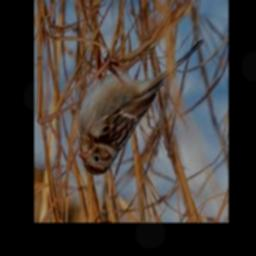Sparrow: (78, 38, 204, 176)
